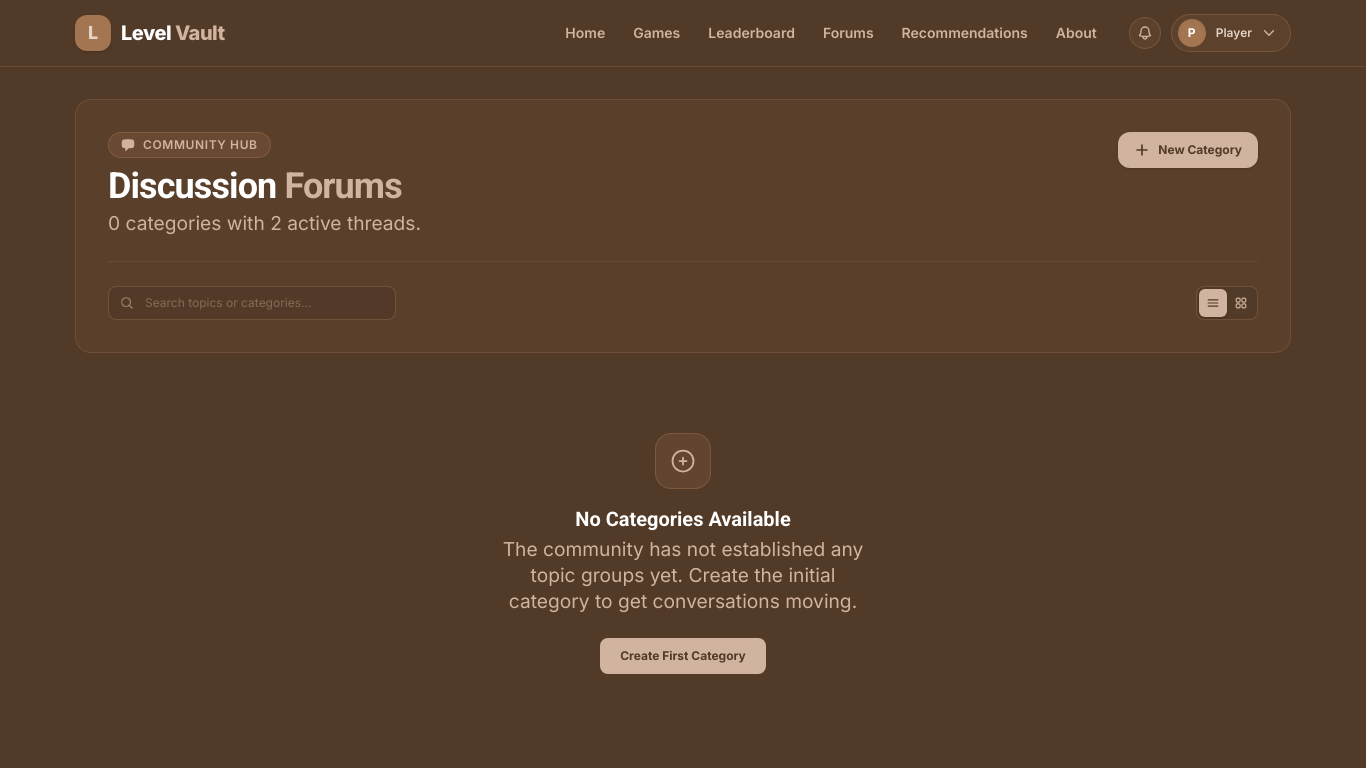
ForumsPage › shows a 'Create First Category' button in the empty state when logged in
Click the button "Create First Category". click: (683, 656)
box: [600, 638, 766, 674]
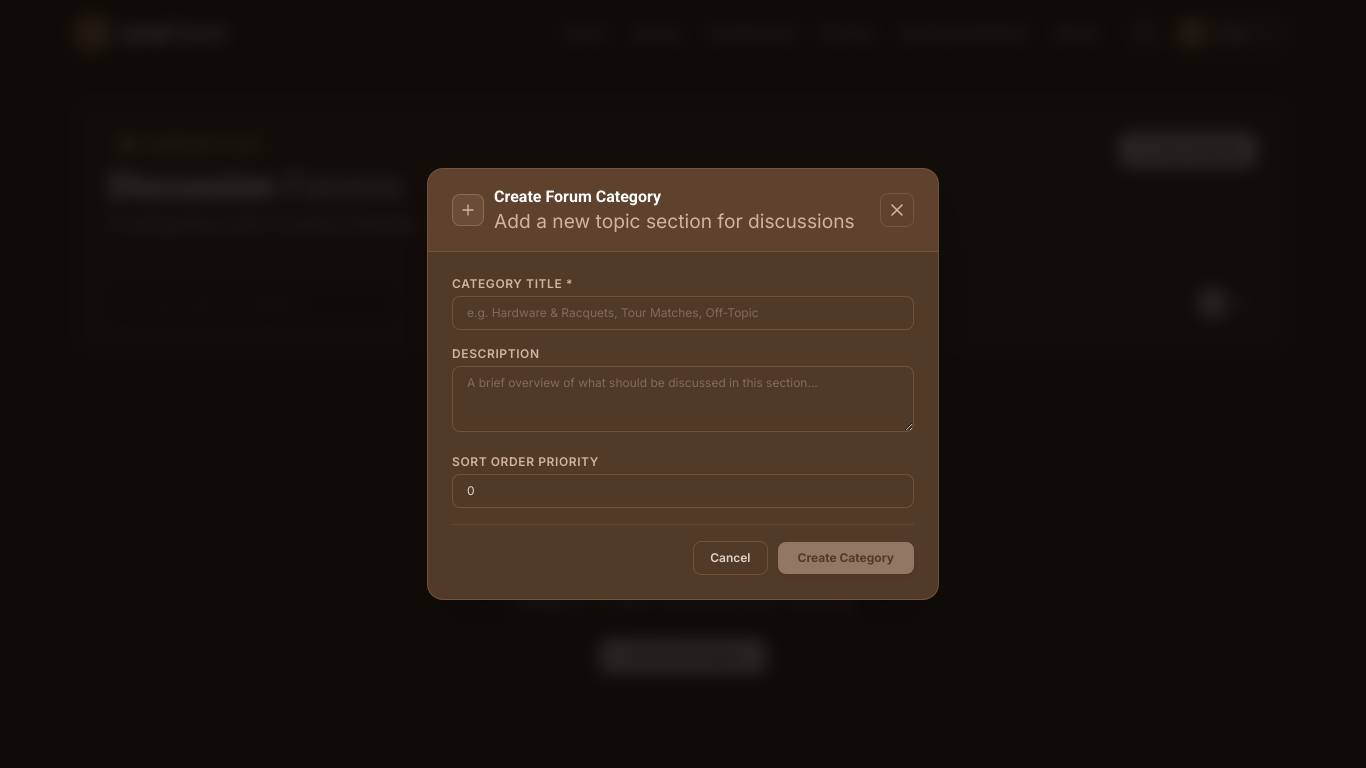
expect the heading "Create Forum Category" is shown: met, box [494, 187, 661, 206]
